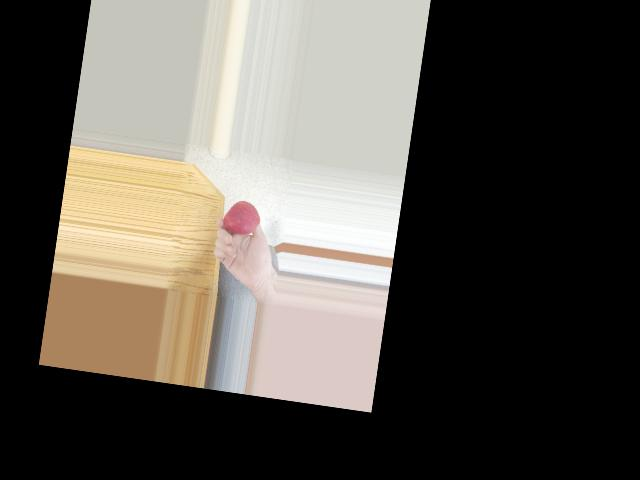apple: (224, 198, 262, 236)
